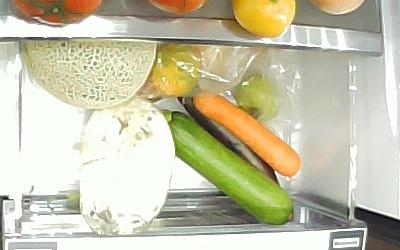cabbage: (80, 101, 174, 234)
carrot: (193, 92, 301, 178)
eggplant: (176, 96, 280, 185)
melon: (22, 40, 157, 108)
tangerine_vinyl: (152, 42, 203, 97)
tomato_vinyl: (230, 74, 283, 121)
zucchini: (159, 108, 295, 226)
